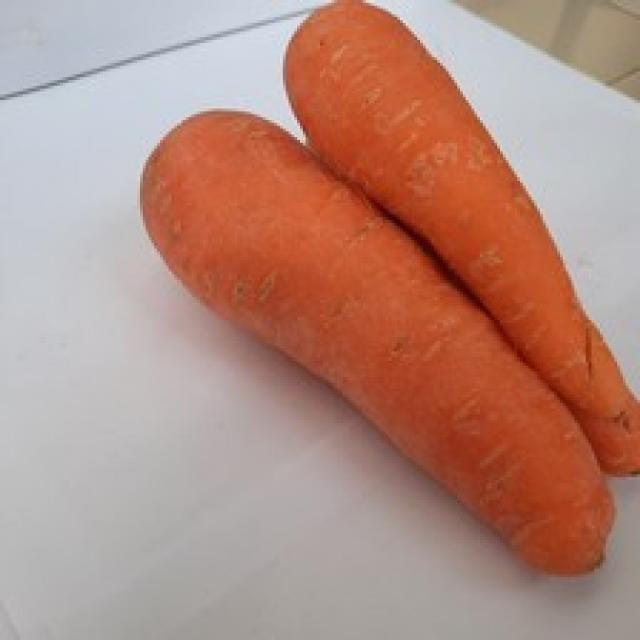carrot: (146, 107, 612, 574), (277, 0, 639, 474)
